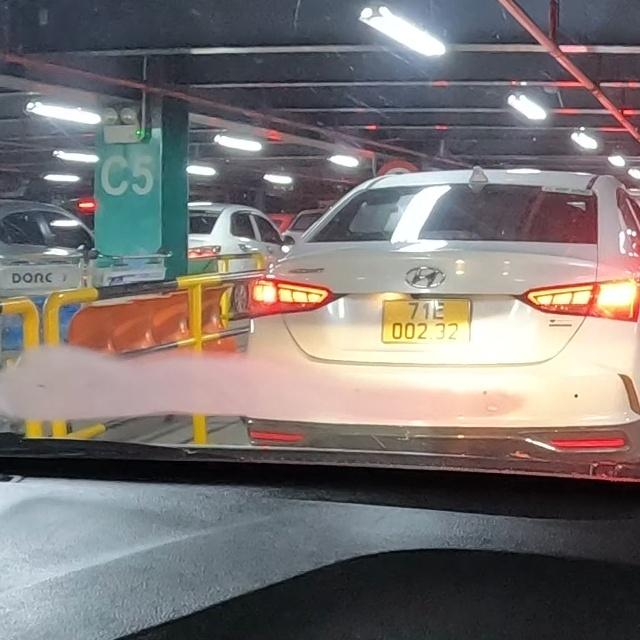license-plate: (380, 294, 473, 346)
